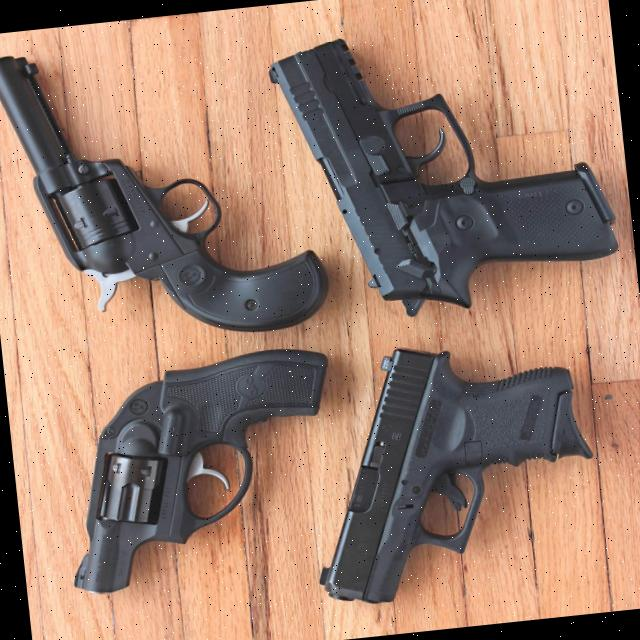Handgun: (0, 16, 343, 360), (261, 35, 614, 322), (316, 321, 613, 624), (80, 370, 330, 560)
